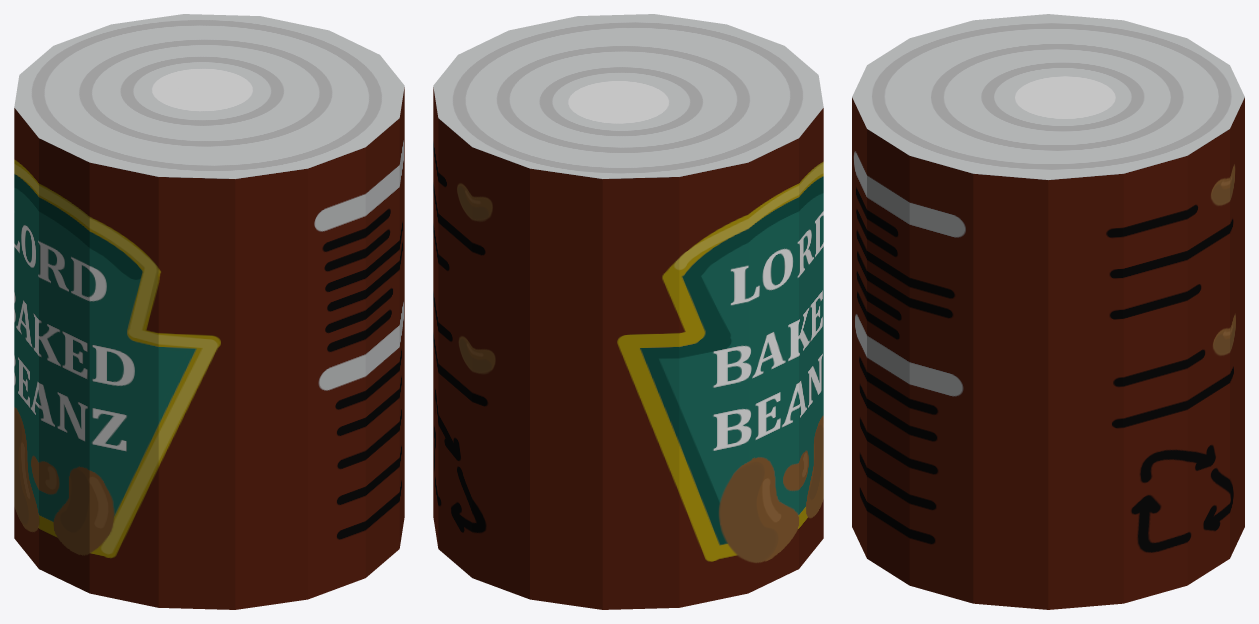
The model's file is beans.glb.
3 renders of one model, left to right at view 1: azimuth 30°, elevation 25°; view 2: azimuth 150°, elevation 25°; view 3: azimuth 270°, elevation 25°, orthographic.
Visible parts, largest first — view 1: Cylinder; view 2: Cylinder; view 3: Cylinder.
Part boxes in pixels (x1=…): Cylinder: x1=14, y1=14, x2=404, y2=609; Cylinder: x1=433, y1=14, x2=823, y2=609; Cylinder: x1=852, y1=14, x2=1244, y2=609.
Bounding box in the file's own units: 0.809 × 0.977 × 0.809.
Materials: 1 (1 with a texture image).
